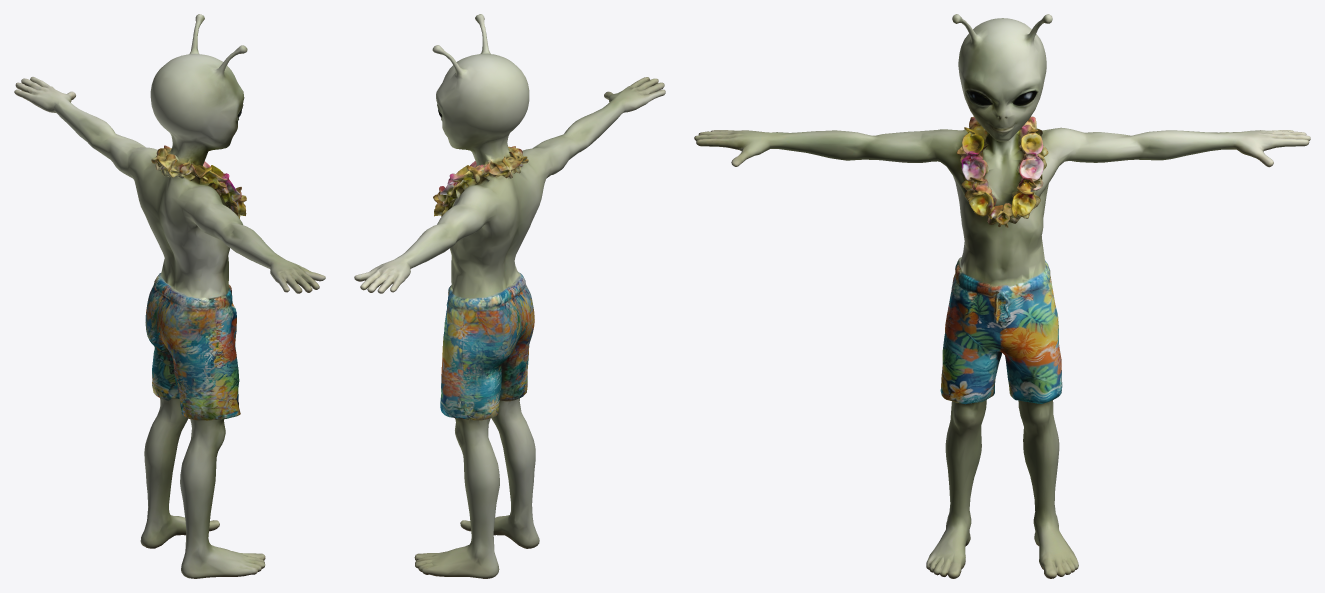
Rendered from the-alien.glb.
3 views of the same model, side by side, from view 1: azimuth 30°, elevation 25°; view 2: azimuth 150°, elevation 25°; view 3: azimuth 270°, elevation 25° (orthographic). The views are drawn at different scales.
Parts seen in each view (by area): view 1: alien; view 2: alien; view 3: alien.
Boxes of the visible parts, x1,y1,x2,y2 form: alien: [14, 14, 325, 578]; alien: [354, 14, 665, 578]; alien: [694, 14, 1310, 578].
Bounding box in the file's own units: 0.1855 × 0.996 × 0.9994.
1 material, 1 textured.
